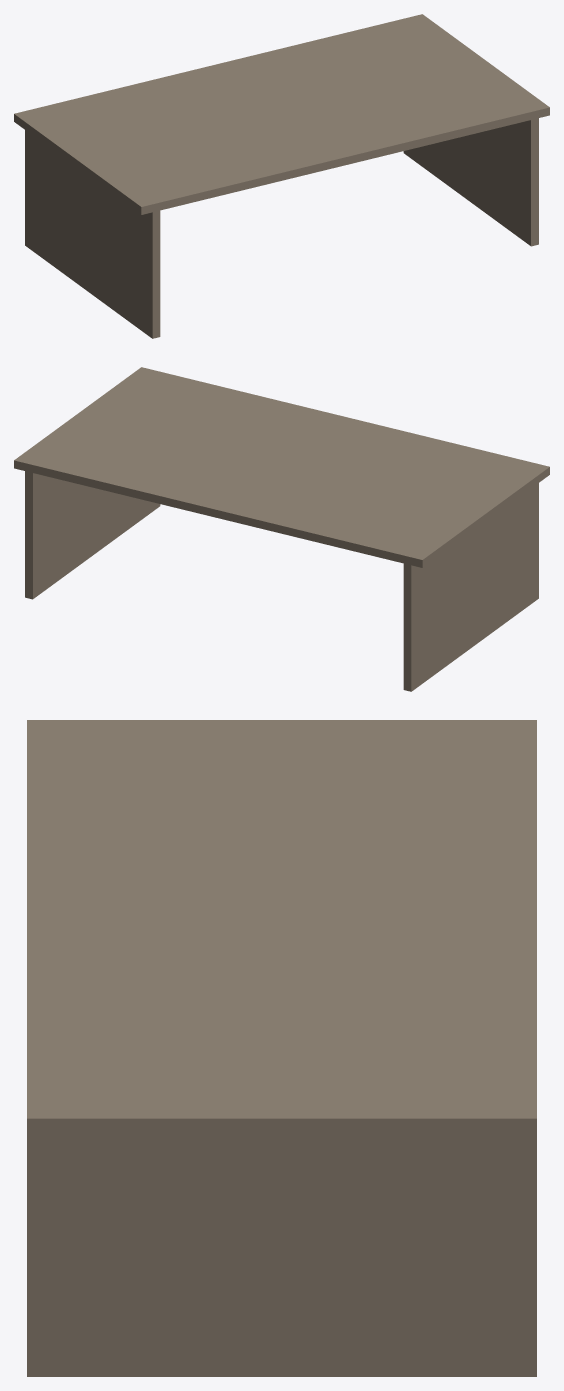
The model's file is LightTable4.fbx.
3 views of the same model, one above another, from view 1: azimuth 30°, elevation 25°; view 2: azimuth 150°, elevation 25°; view 3: azimuth 270°, elevation 25° (orthographic). The views are drawn at different scales.
Parts seen in each view (by area): view 1: Cube.070; view 2: Cube.070; view 3: Cube.070.
Part boxes in pixels (bbox=[...]): Cube.070: bbox=[14, 14, 549, 338]; Cube.070: bbox=[14, 367, 549, 691]; Cube.070: bbox=[27, 720, 536, 1376].
Size of the model in its own units: 370 by 116 by 200.
